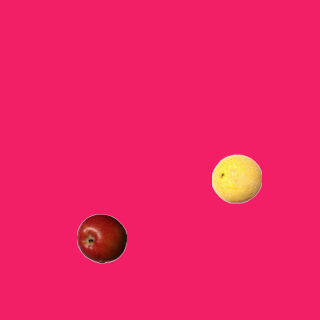Apple Braeburn: (76, 213, 126, 263)
Cantaloupe 1: (211, 153, 261, 203)
